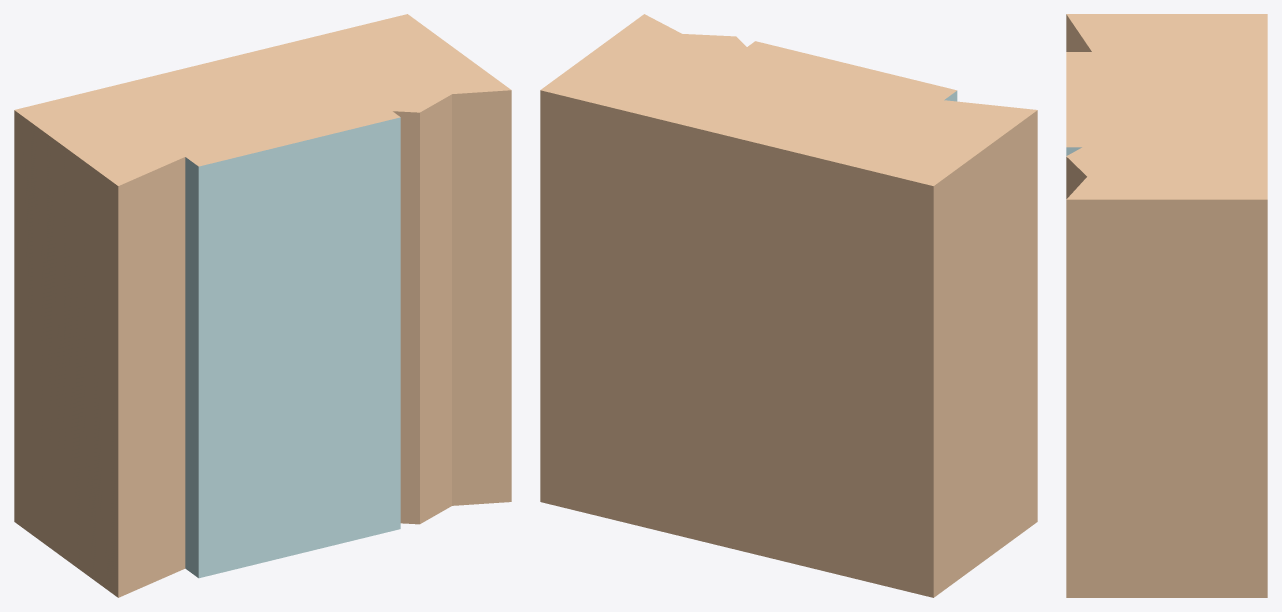
The model's file is cliffBrown_waterfallMid.glb.
The picture shows the model from 3 angles, left to right: view 1: azimuth 30°, elevation 25°; view 2: azimuth 150°, elevation 25°; view 3: azimuth 270°, elevation 25°; orthographic projection. The views are drawn at different scales.
Parts seen in each view (by area): view 1: cliffBrown_waterfallMid; view 2: cliffBrown_waterfallMid; view 3: cliffBrown_waterfallMid.
Boxes of the visible parts, bbox=[...] form: cliffBrown_waterfallMid: bbox=[14, 14, 511, 597]; cliffBrown_waterfallMid: bbox=[540, 14, 1037, 597]; cliffBrown_waterfallMid: bbox=[1066, 14, 1267, 597].
Bounding box in the file's own units: 1 × 1 × 0.4584.
